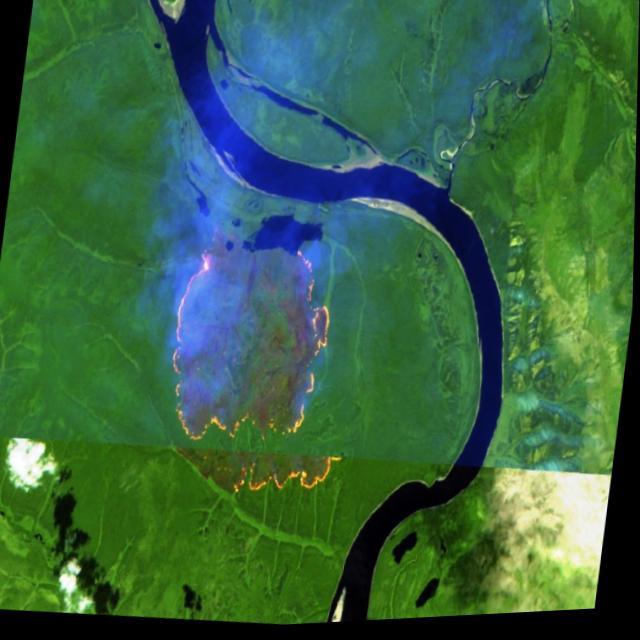fire: (151, 221, 375, 509)
